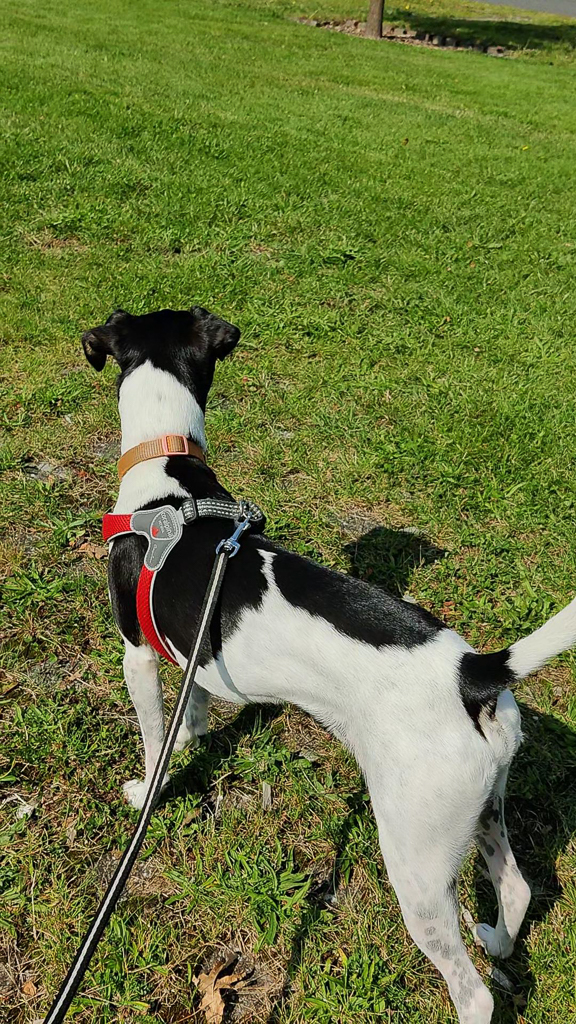Dog: (54, 274, 576, 1024)
